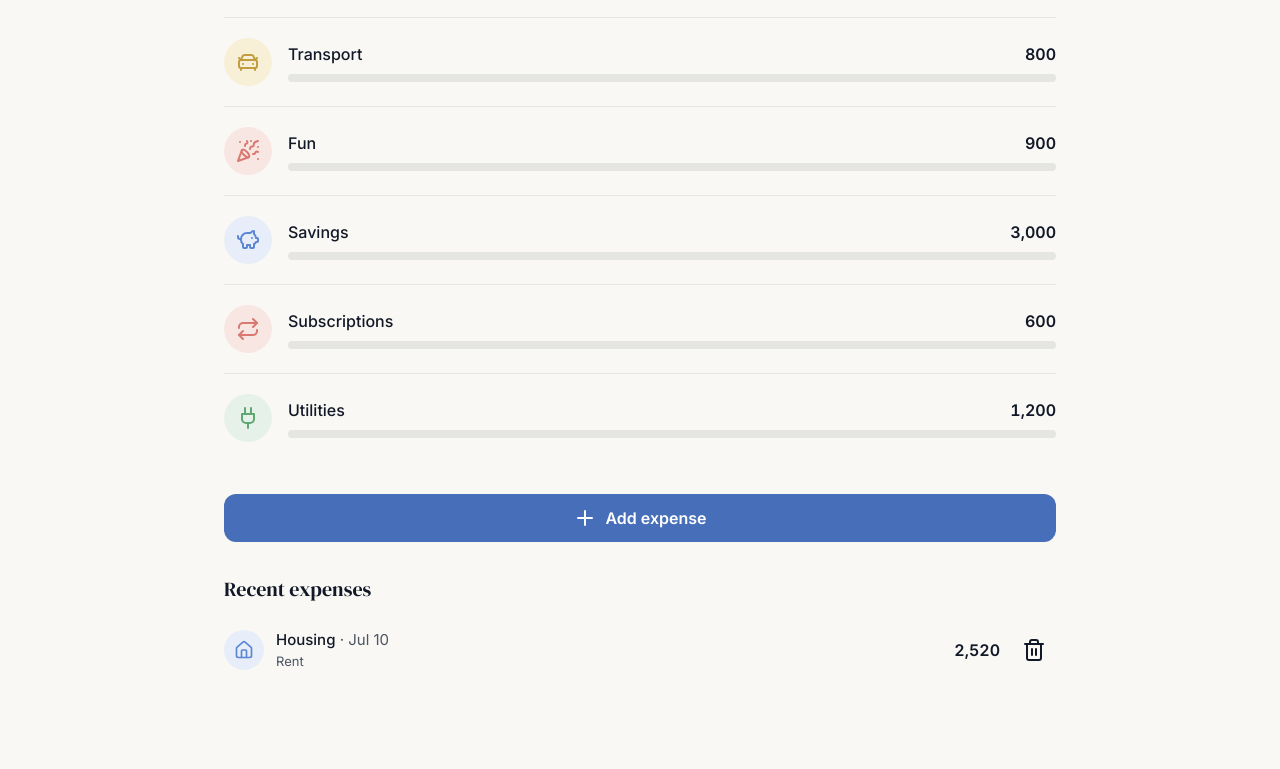
Test: qa-delete-expense › QA-CC-42: a failed delete surfaces an error and keeps the row
(page scrolled)
Click the button named "Delete Housing 2,520 on Jul 10". click: (1034, 650)
box: [1012, 628, 1056, 672]
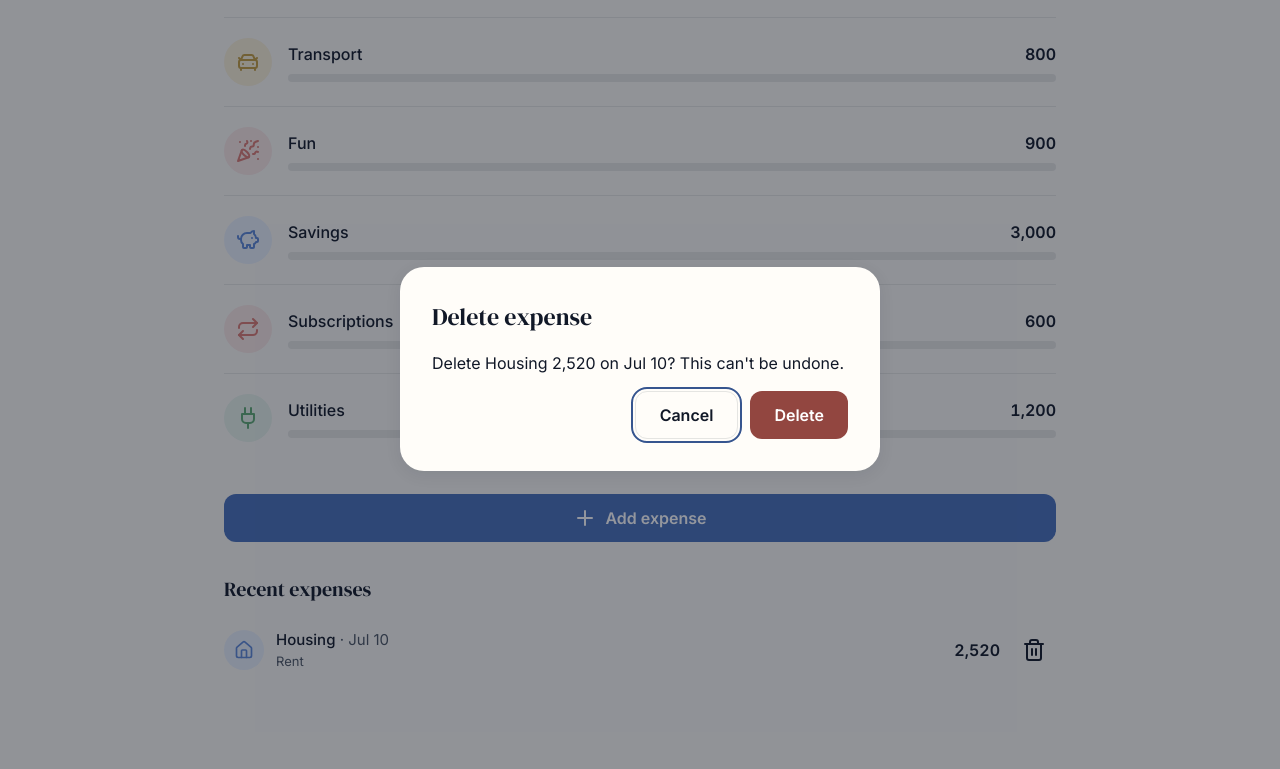
Result: the dialog "Delete expense" is shown at [400, 267, 880, 471]
Click the button "Delete". click: (799, 415)
box: [750, 391, 848, 439]
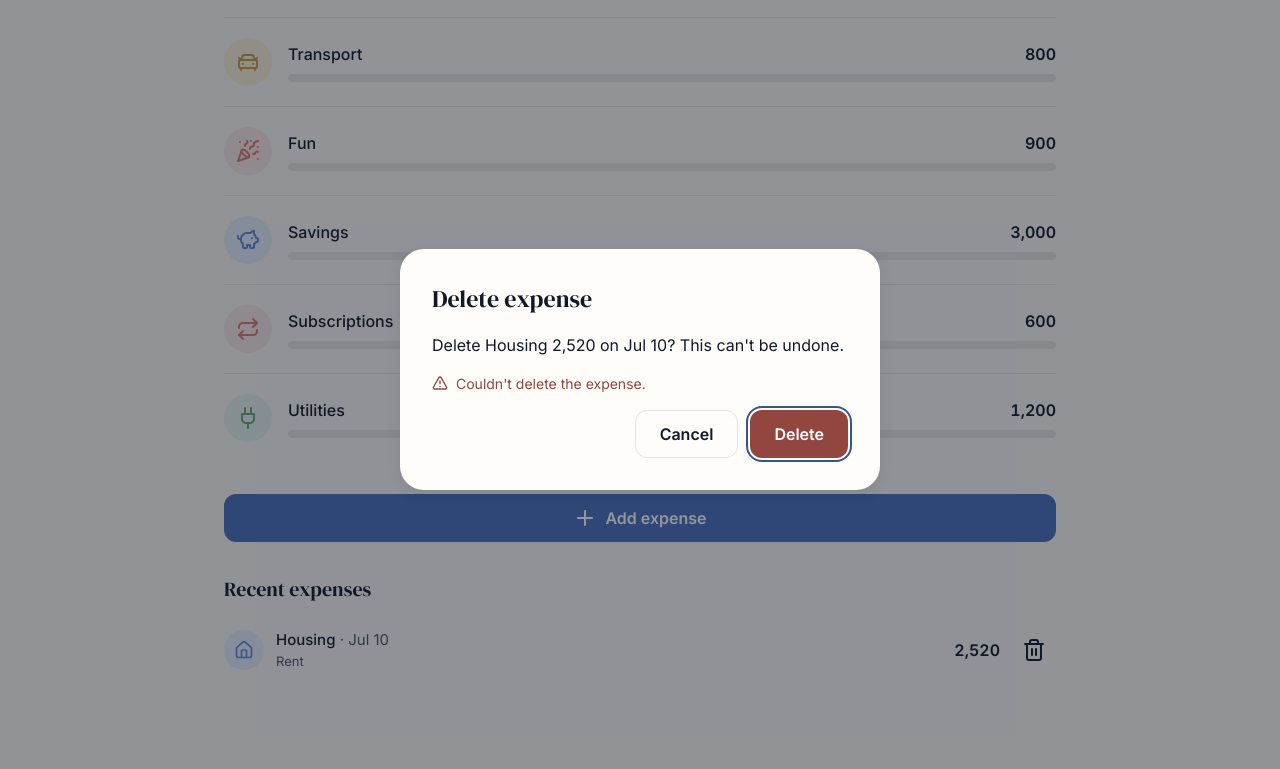
Expected: the button named "Delete Housing 2,520 on Jul 10" is shown, [1012, 628, 1056, 672]
Result: the text "Couldn't delete the expense." is shown at [432, 374, 646, 392]
